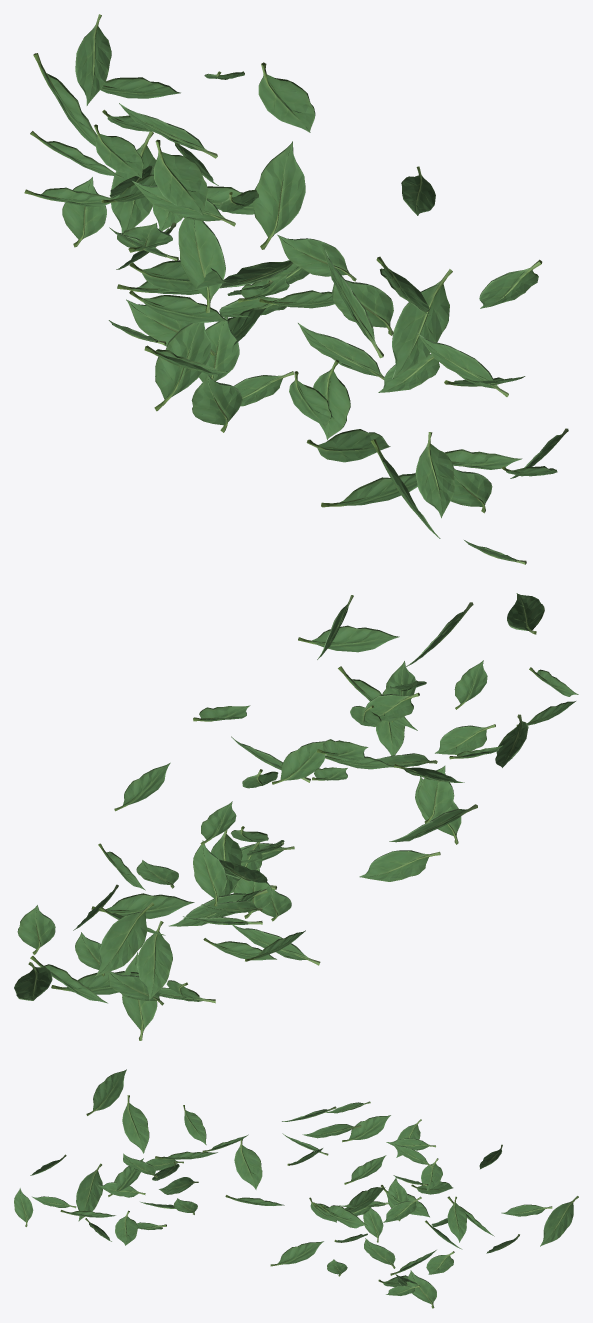
Rendered from holy_canopy13_full.glb.
The picture shows the model from 3 angles, top to bottom: view 1: azimuth 30°, elevation 25°; view 2: azimuth 150°, elevation 25°; view 3: azimuth 270°, elevation 25°; orthographic projection. The views are drawn at different scales.
Parts seen in each view (by area): view 1: holy_canopy13; view 2: holy_canopy13; view 3: holy_canopy13.
Boxes of the visible parts, x1,y1,x2,y2 form: holy_canopy13: [24, 14, 568, 564]; holy_canopy13: [14, 593, 578, 1040]; holy_canopy13: [14, 1069, 578, 1308].
Size of the model in its own units: 8.98 by 9.23 by 24.67.
Materials: 1 (1 with a texture image).
